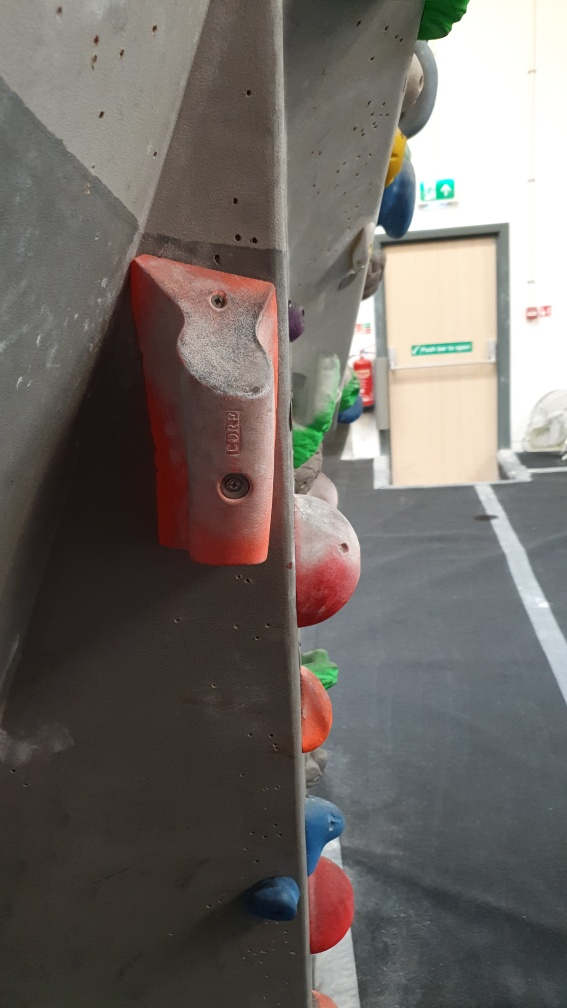Pinch: (128, 251, 281, 570)
Sloper: (290, 489, 364, 623), (305, 852, 357, 959)
